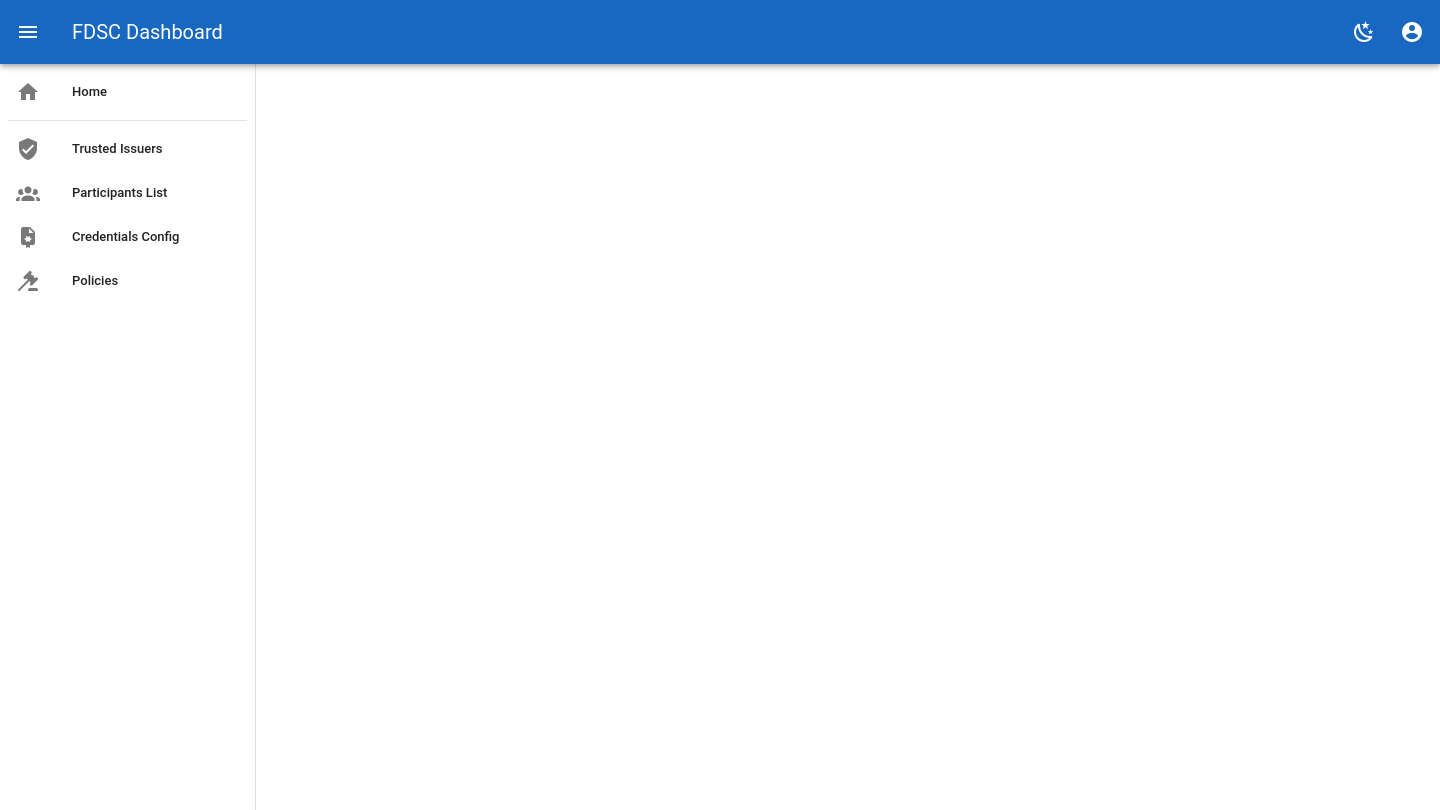
Test: App.vue user menu › menu content › renders the localised viewer role label
Click the button with class "user-menu-activator" at (1412, 32), box x1=1388 y1=8 x2=1436 y2=56
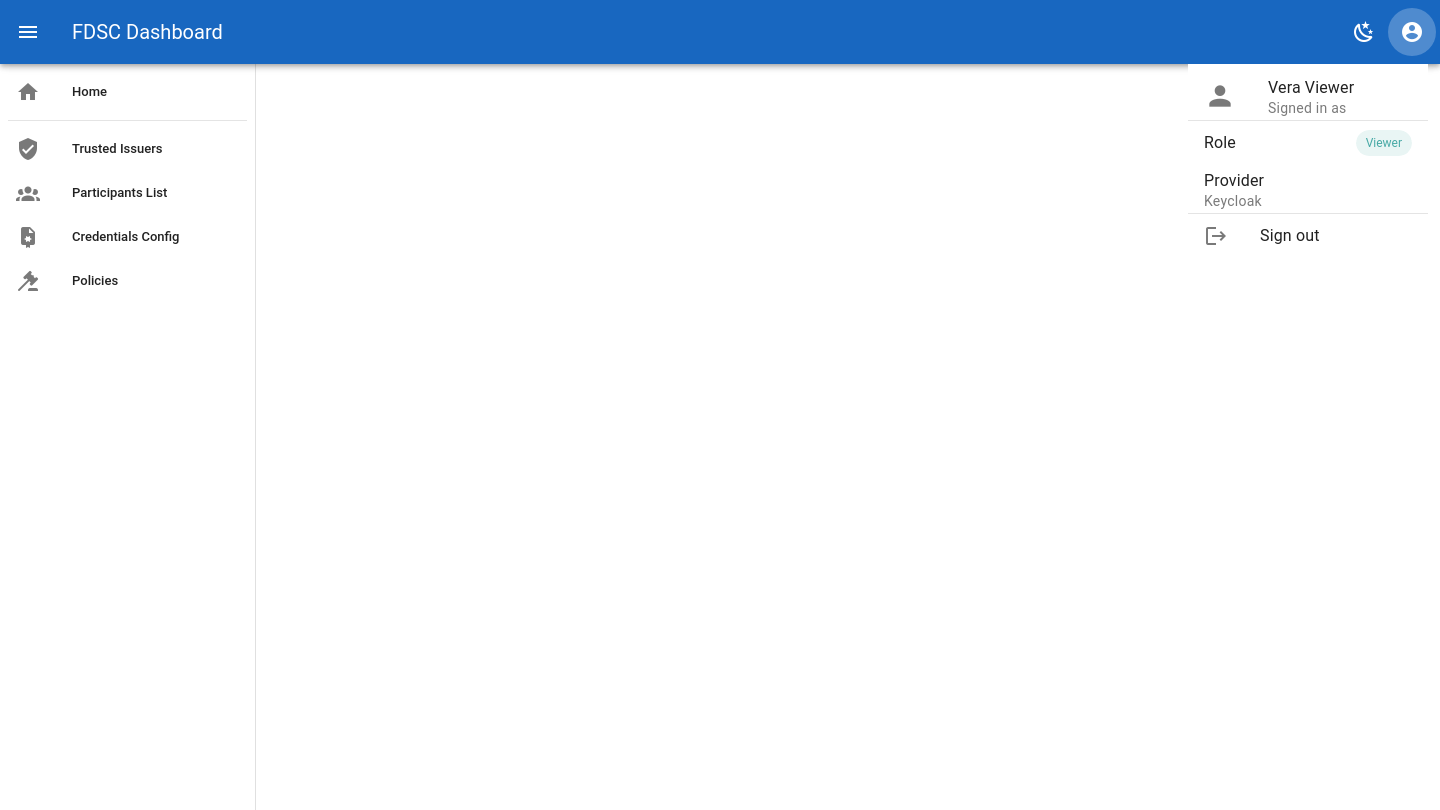
Now the text "Vera Viewer" is shown, box x1=1268 y1=78 x2=1354 y2=97
Now the text "Viewer" is shown, box x1=1268 y1=78 x2=1354 y2=97
